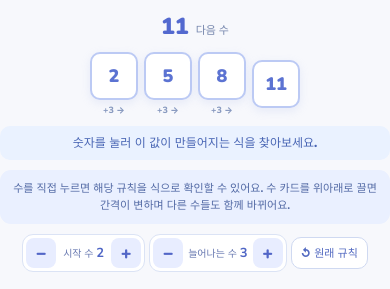
Test case: 83개 교구 감사에서 발견한 슬라이더 전용 시각화 보완 › 규칙 숫자 카드를 위로 끌면 증가 간격이 3에서 5로 바뀐다
Press the mouse on the button named "2번째 규칙 수 5 선택 및 위아래 드래그" at (168, 76), box [144,52,192,100]
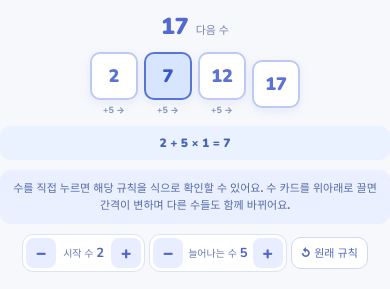
Expected: the text "2 + 5 × 1 = 7" is shown, [0,126,389,160]
